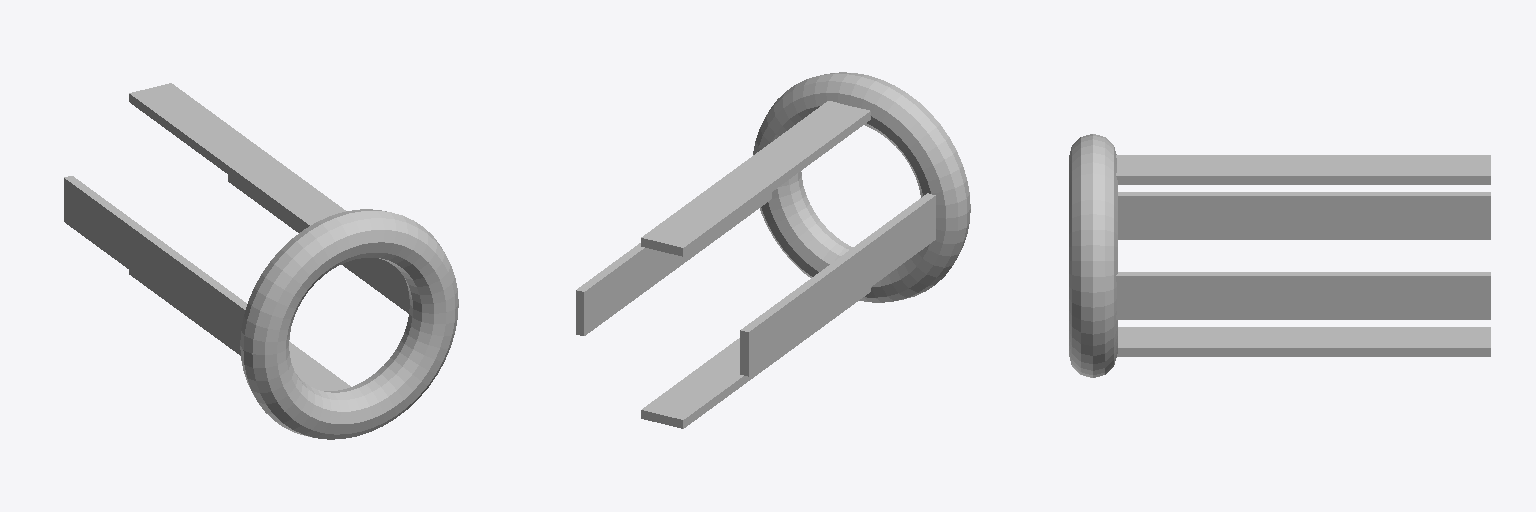
File: Colloner.obj
3 renders of one model, left to right at view 1: azimuth 30°, elevation 25°; view 2: azimuth 150°, elevation 25°; view 3: azimuth 270°, elevation 25°, orthographic.
Visible parts, largest first — view 1: Torus, Cube_Cube.001, Cube.002_Cube.004, Cube.003_Cube.005, Cube.001_Cube.002; view 2: Torus, Cube_Cube.001, Cube.002_Cube.004, Cube.003_Cube.005, Cube.001_Cube.002; view 3: Cube.003_Cube.005, Cube_Cube.001, Torus, Cube.002_Cube.004, Cube.001_Cube.002.
Boxes of the visible parts, box(x1,y1,x2,y2) form: Torus: box(240, 209, 458, 439); Cube_Cube.001: box(64, 176, 246, 350); Cube.002_Cube.004: box(129, 83, 345, 229); Cube.003_Cube.005: box(228, 175, 409, 313); Cube.001_Cube.002: box(129, 270, 350, 390); Torus: box(753, 72, 970, 302); Cube_Cube.001: box(740, 193, 935, 376); Cube.002_Cube.004: box(641, 101, 870, 256); Cube.003_Cube.005: box(576, 193, 771, 335); Cube.001_Cube.002: box(641, 288, 870, 428); Cube.003_Cube.005: box(1116, 272, 1490, 319); Cube_Cube.001: box(1118, 192, 1490, 239); Torus: box(1069, 134, 1117, 377); Cube.002_Cube.004: box(1116, 155, 1490, 184); Cube.001_Cube.002: box(1117, 327, 1490, 356).
Bounding box in the file's own units: 2.5 × 2.5 × 4.32.